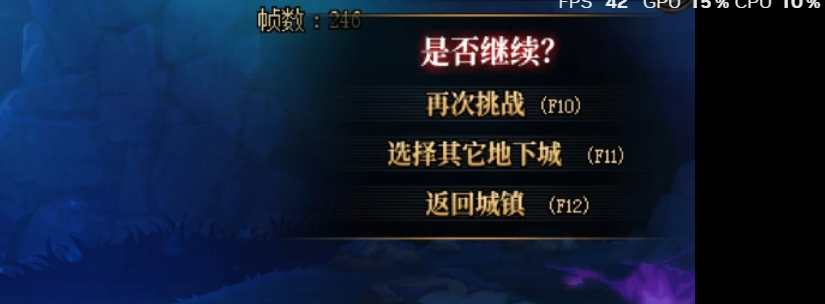sfjx: (419, 35, 562, 69)
